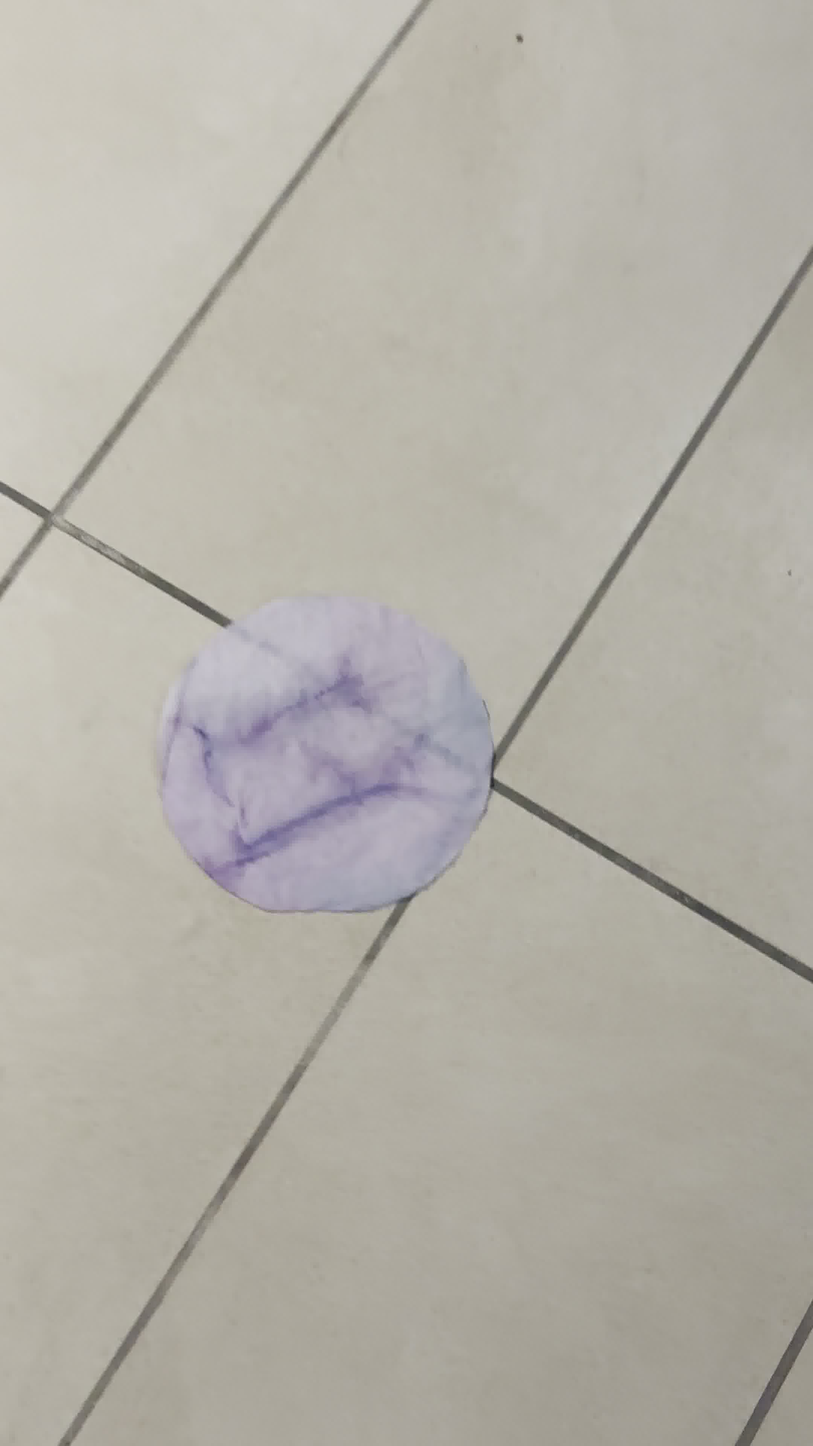Target: (156, 594, 492, 914)
